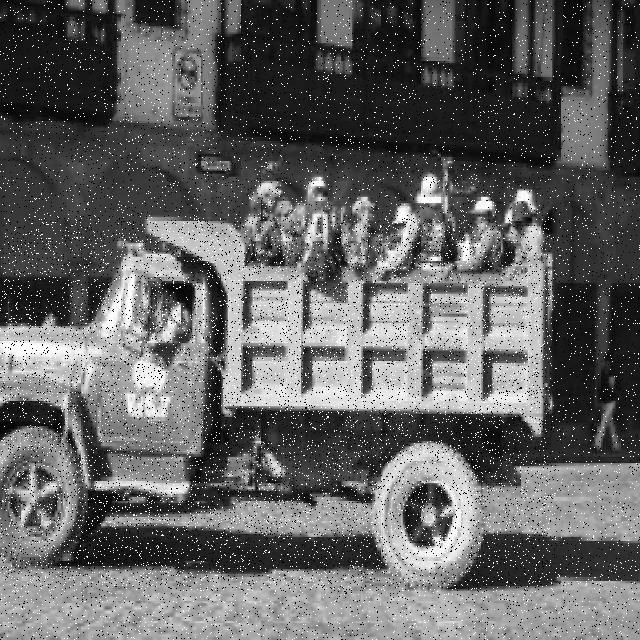Truck- 2-Axle: (0, 218, 553, 591)
